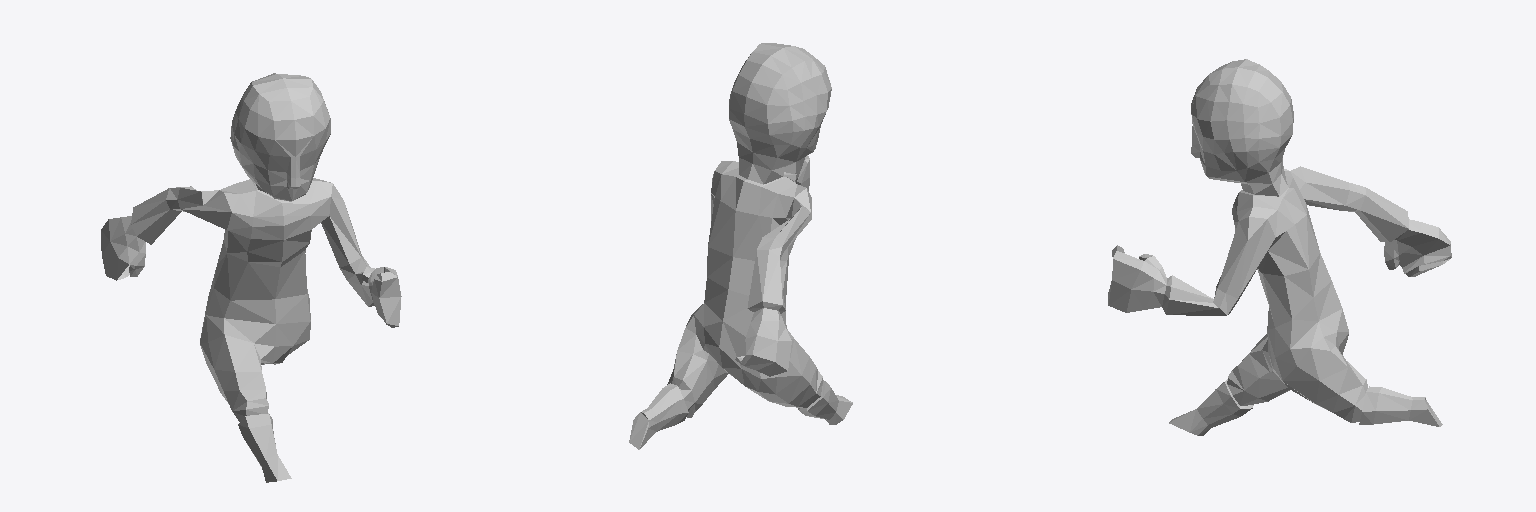
File: KnightCharacter2.obj
3 renders of one model, left to right at view 1: azimuth 30°, elevation 25°; view 2: azimuth 150°, elevation 25°; view 3: azimuth 270°, elevation 25°, orthographic.
Parts seen in each view (by area): view 1: Knight; view 2: Knight; view 3: Knight.
Boxes of the visible parts, <box> form: Knight: <box>101,73,401,482</box>; Knight: <box>629,43,852,449</box>; Knight: <box>1108,59,1451,435</box>.
Size of the model in its own units: 2.37 by 5.09 by 4.14.